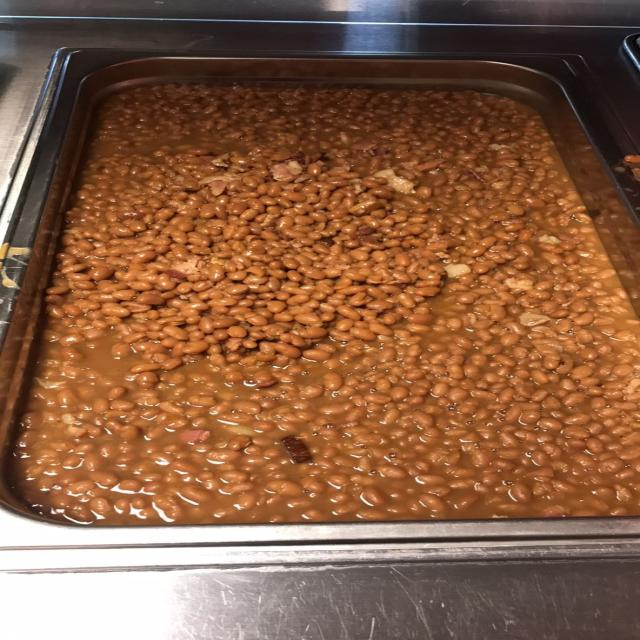beans: (15, 85, 639, 524), (302, 349, 330, 361)
